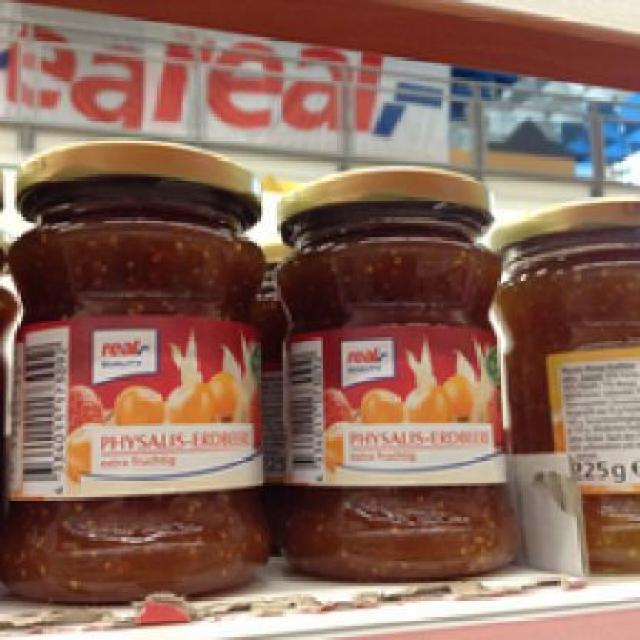Jam: (5, 140, 268, 600), (272, 163, 514, 583), (492, 192, 638, 568)
